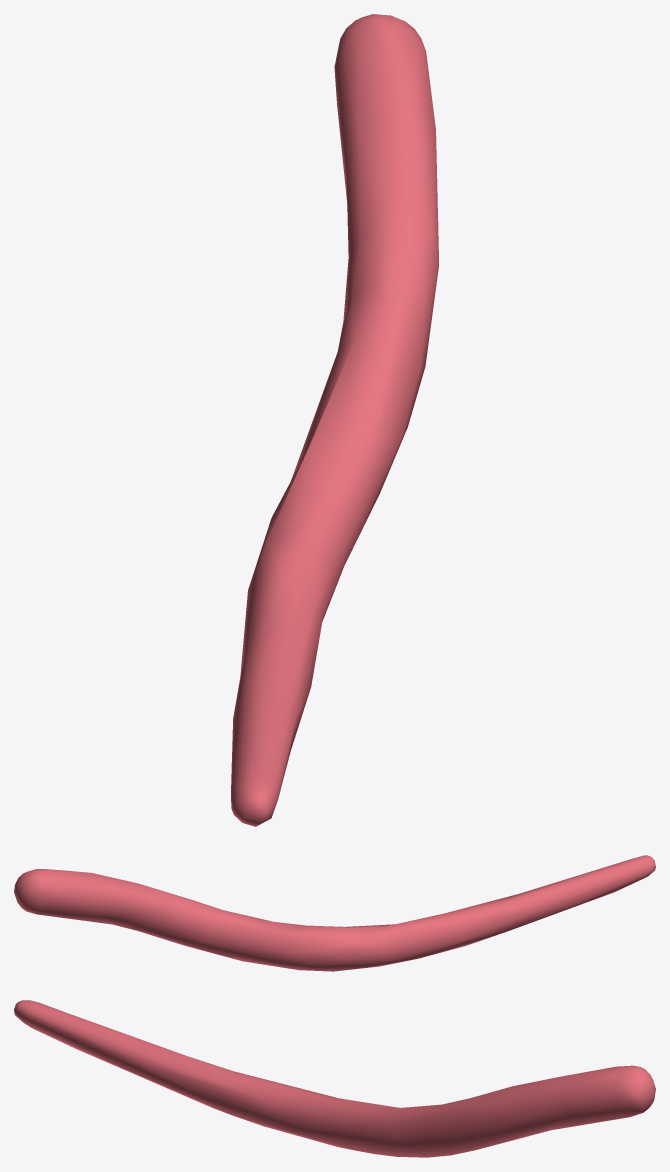
The model's file is fma68944_fj3037.glb.
The picture shows the model from 3 angles, top to bottom: view 1: azimuth 30°, elevation 25°; view 2: azimuth 150°, elevation 25°; view 3: azimuth 270°, elevation 25°; orthographic projection. The views are drawn at different scales.
Visible parts, largest first — view 1: FMA68944_FJ3037; view 2: FMA68944_FJ3037; view 3: FMA68944_FJ3037.
Boxes of the visible parts, x1,y1,x2,y2 form: FMA68944_FJ3037: [231, 14, 438, 826]; FMA68944_FJ3037: [14, 855, 655, 971]; FMA68944_FJ3037: [14, 1000, 655, 1157].
Bounding box in the file's own units: 0.0452 × 0.0184 × 0.0621.
